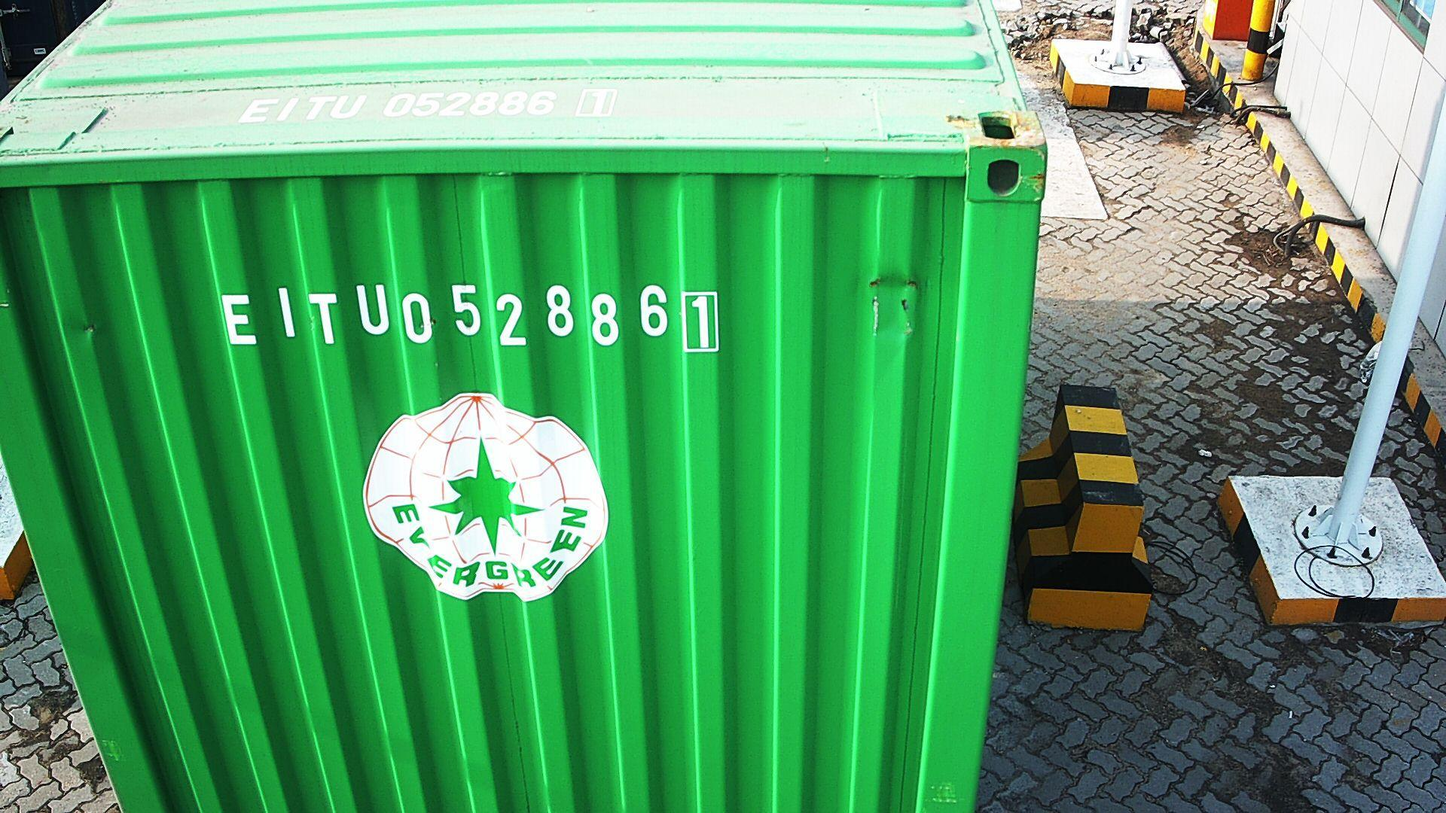container-numbers: (213, 277, 728, 356), (228, 86, 627, 129)
